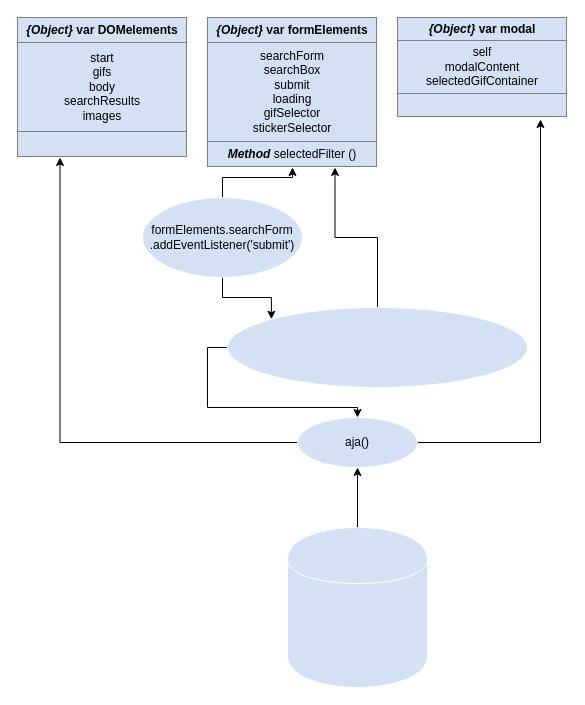
Image size: 585x705. Some labels were removed from this diagram. Here are the shapes that lost their labels. From the top down, the box of each, then its label:
(226, 306, 528, 388): getSearchResults(formElements.selectedFilter)
(286, 526, 428, 688): API Objects
